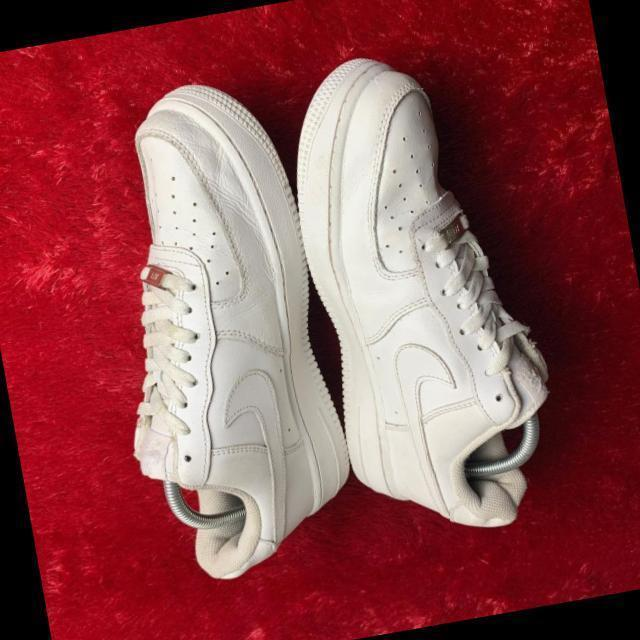nike fake air force: (277, 31, 577, 549), (63, 72, 361, 590)
